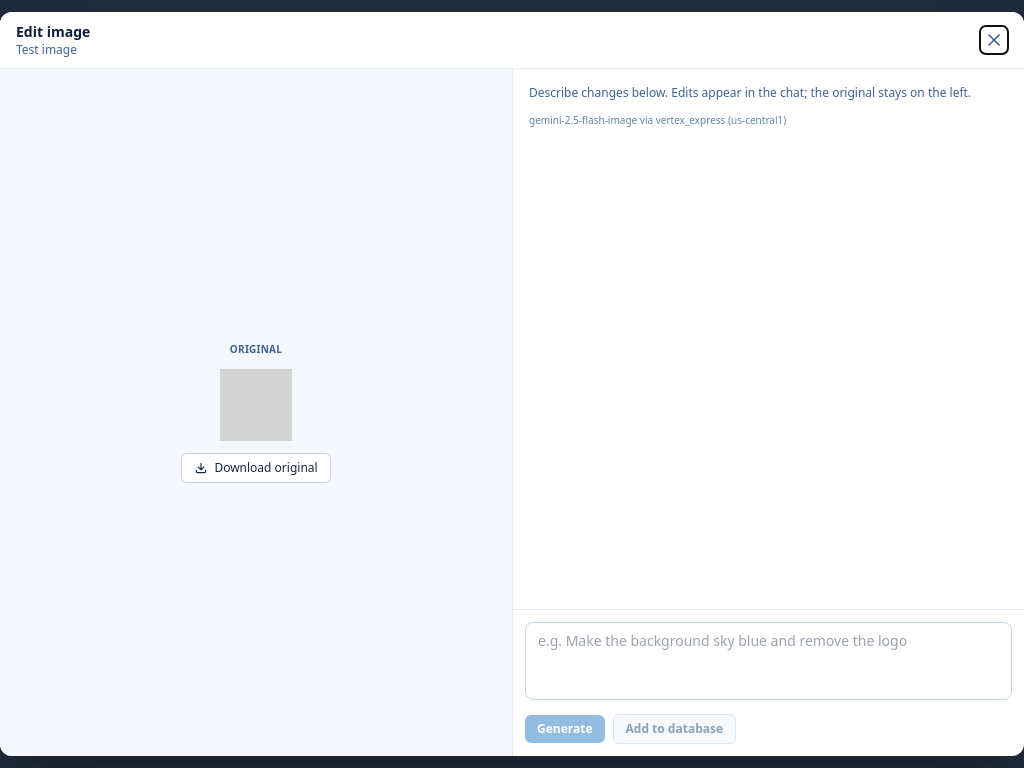
Test: ImageEditSession › shows submit confirmation and disables further edits
Type "make it blue" into the text box with test id "edit-prompt" at (768, 661), box left=525, top=622, right=1012, bottom=700
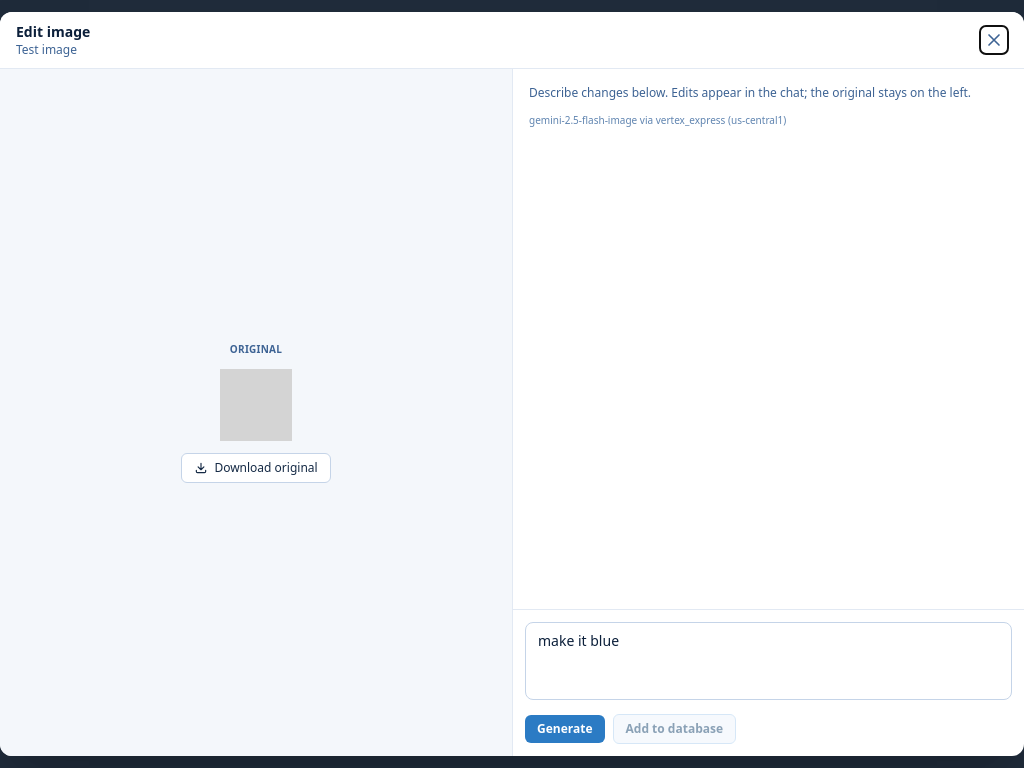
Click the button with test id "edit-send" at (565, 729), box left=525, top=715, right=604, bottom=743
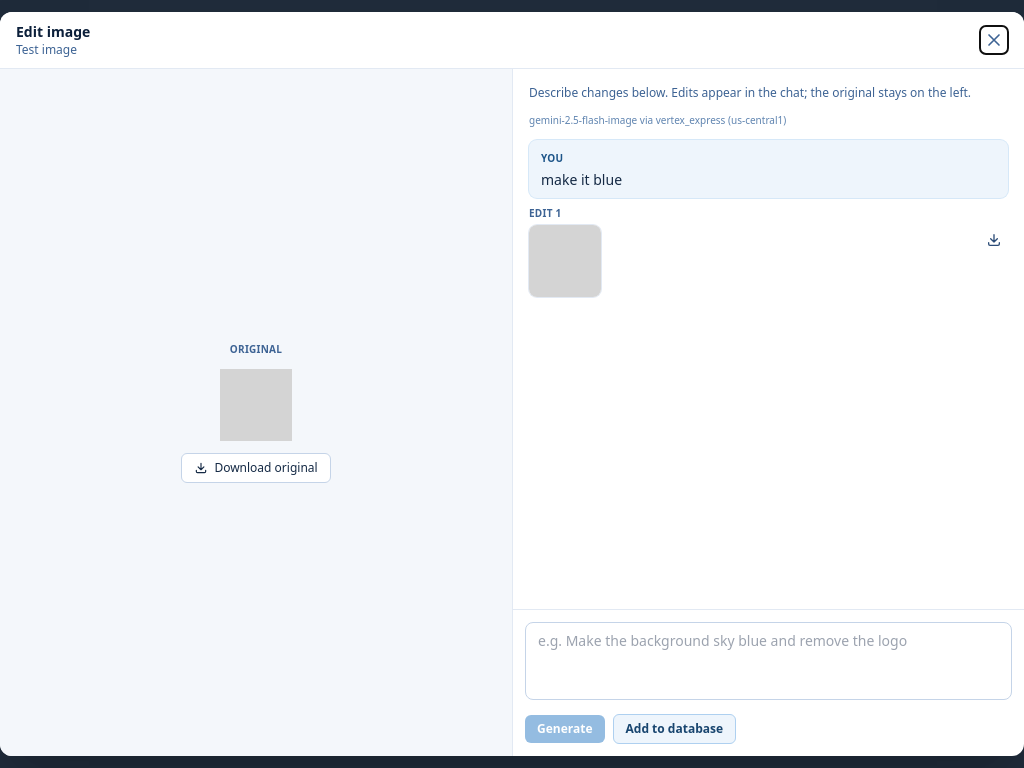
Click the button with test id "edit-submit" at (674, 729), box left=612, top=714, right=736, bottom=744
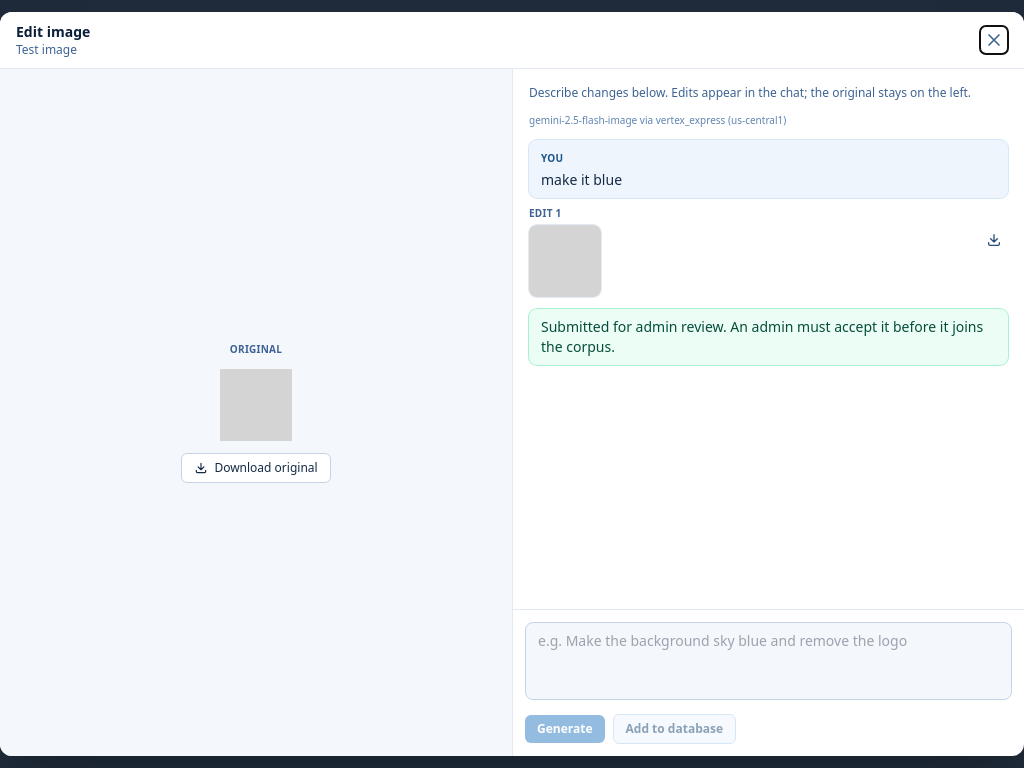
Now the button with test id "edit-send" is disabled, box left=525, top=715, right=604, bottom=743
Now the text "Submitted for admin review" is shown, box left=541, top=317, right=983, bottom=356
Now the button with test id "edit-submit" is disabled, box left=612, top=714, right=736, bottom=744
